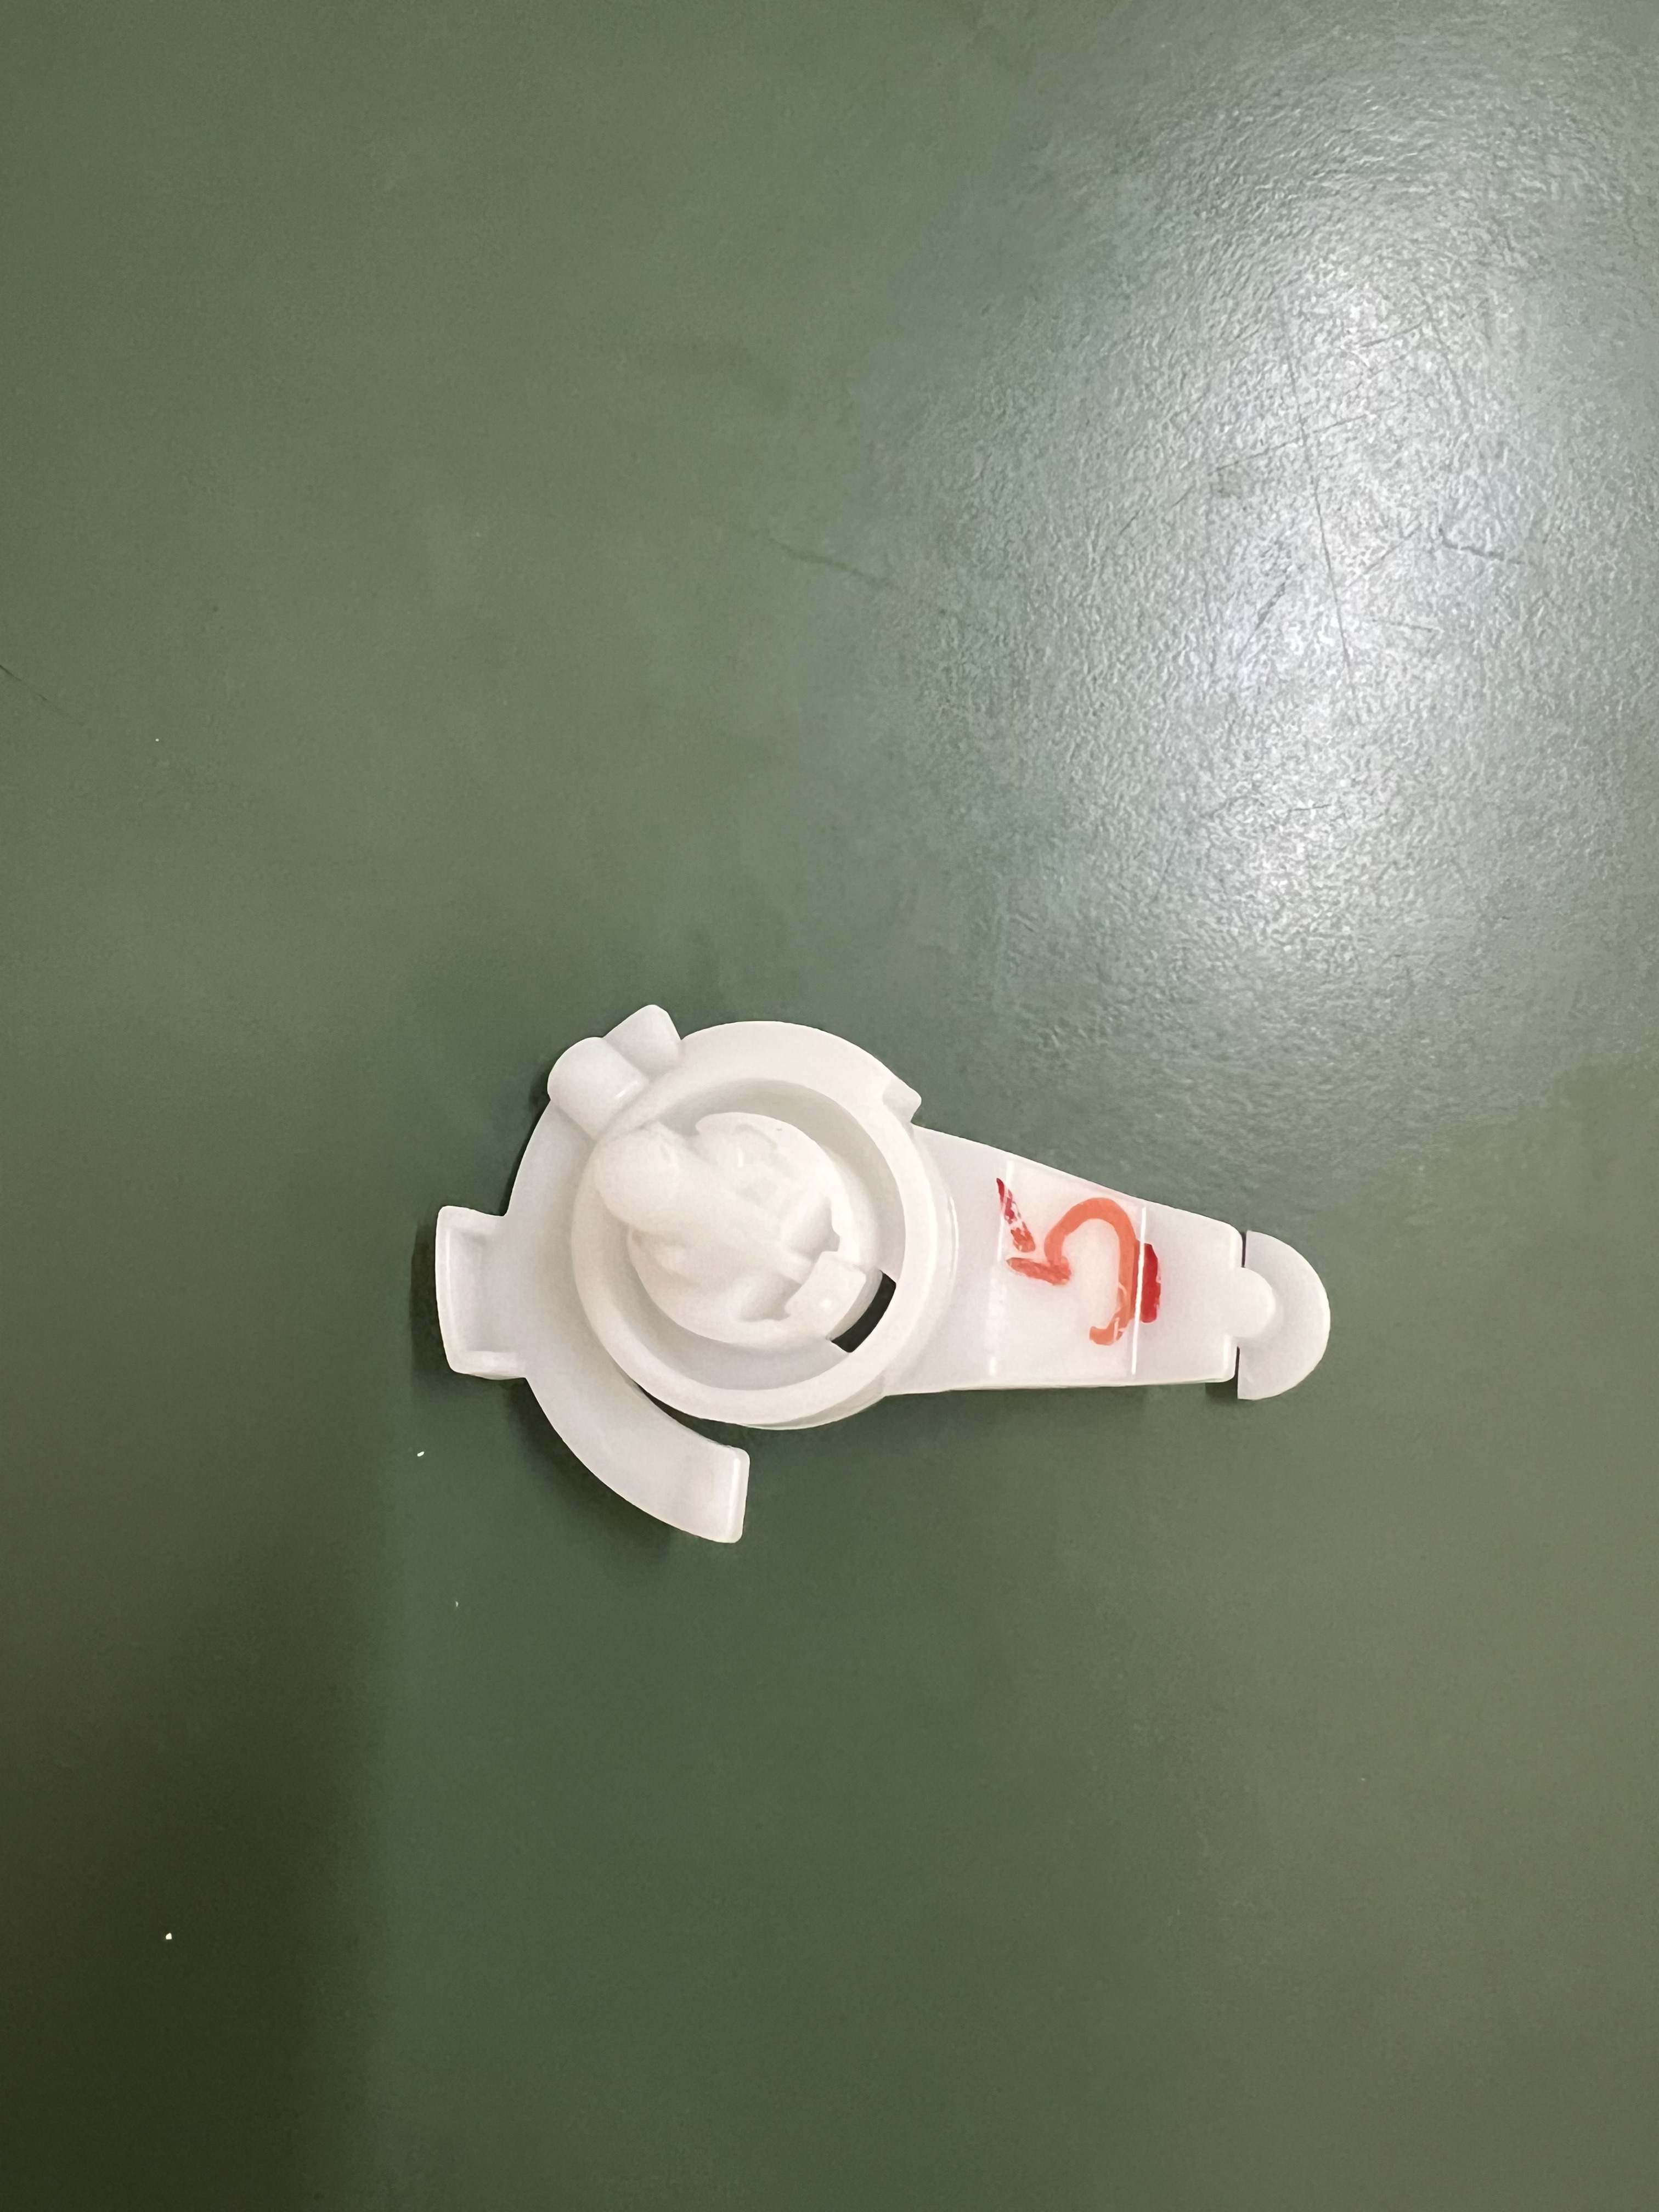drain_lever: (390, 981, 1368, 1561)
